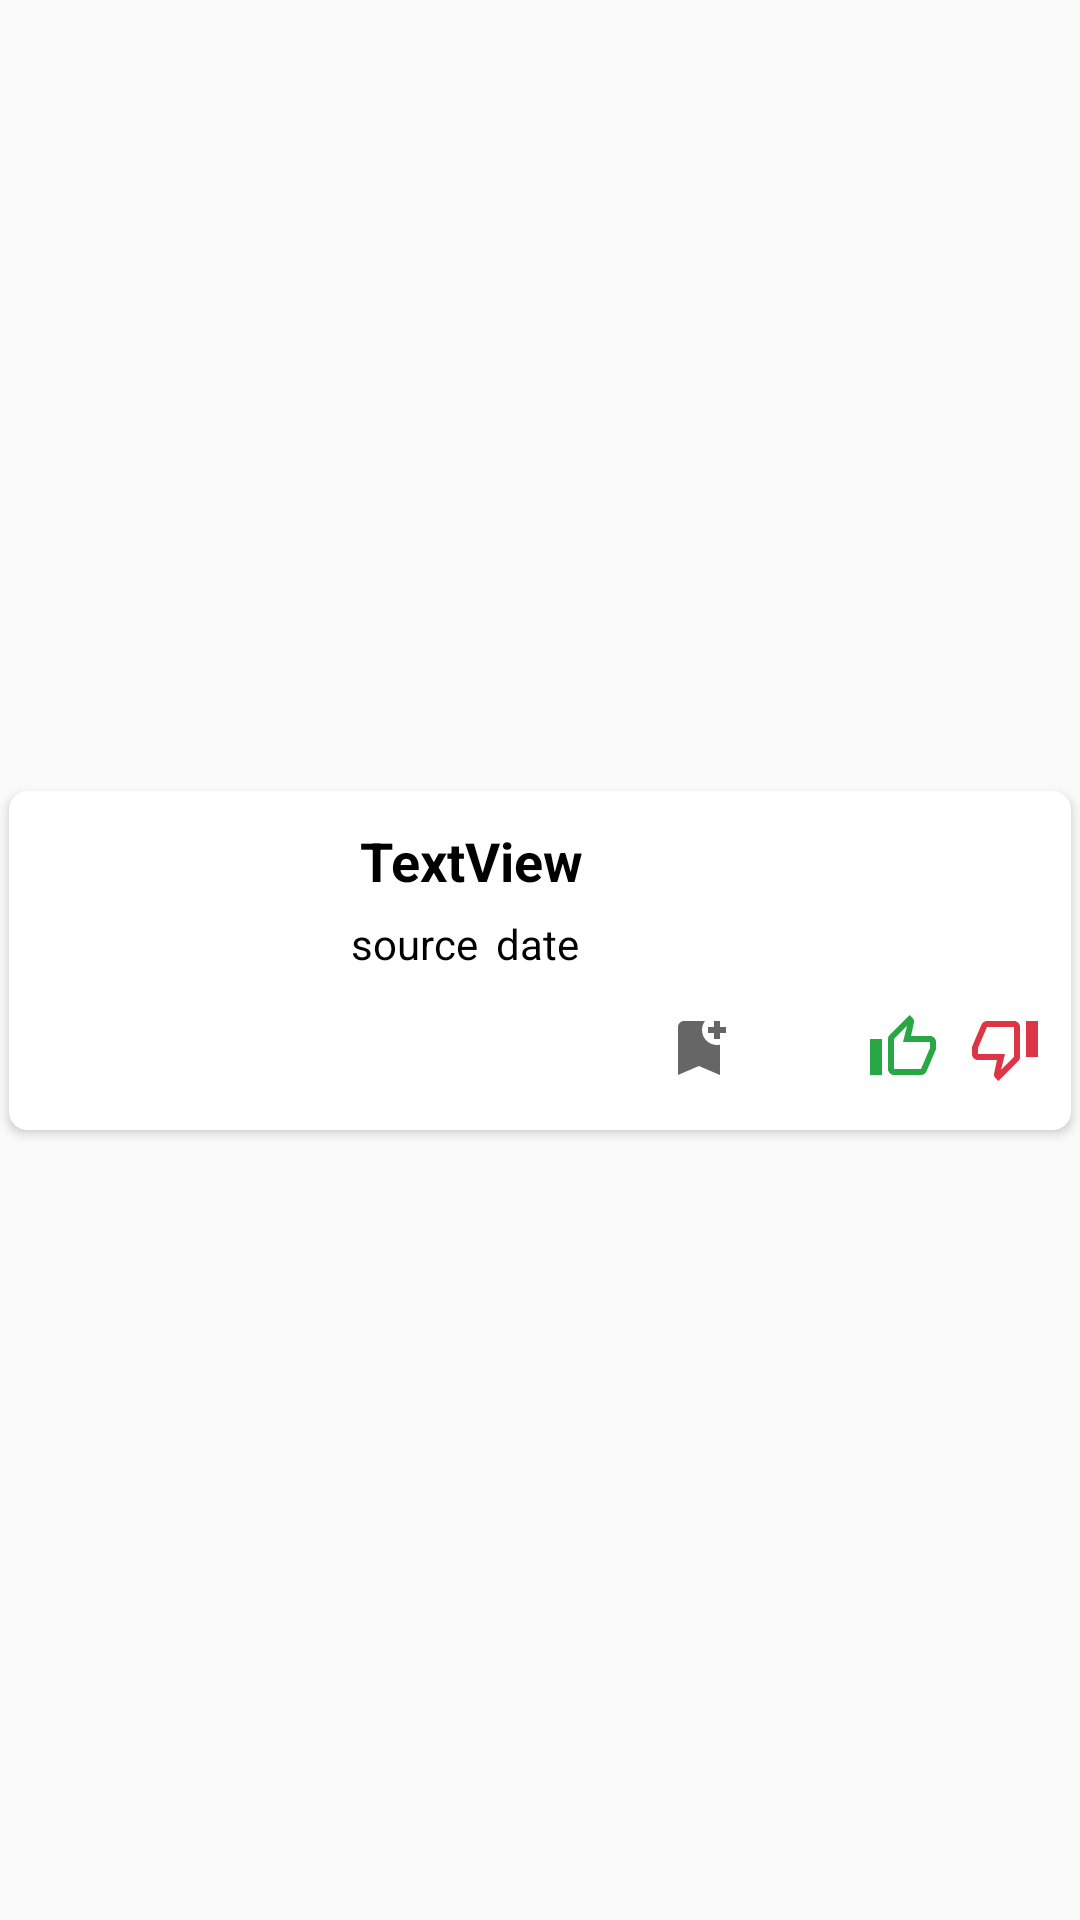

Named icons in this screenshot (1080w x 1920h) and their centers, point (x, y):
bookmark add: point (702, 1048)
thumb down: point (1005, 1051)
thumb up: point (903, 1045)
